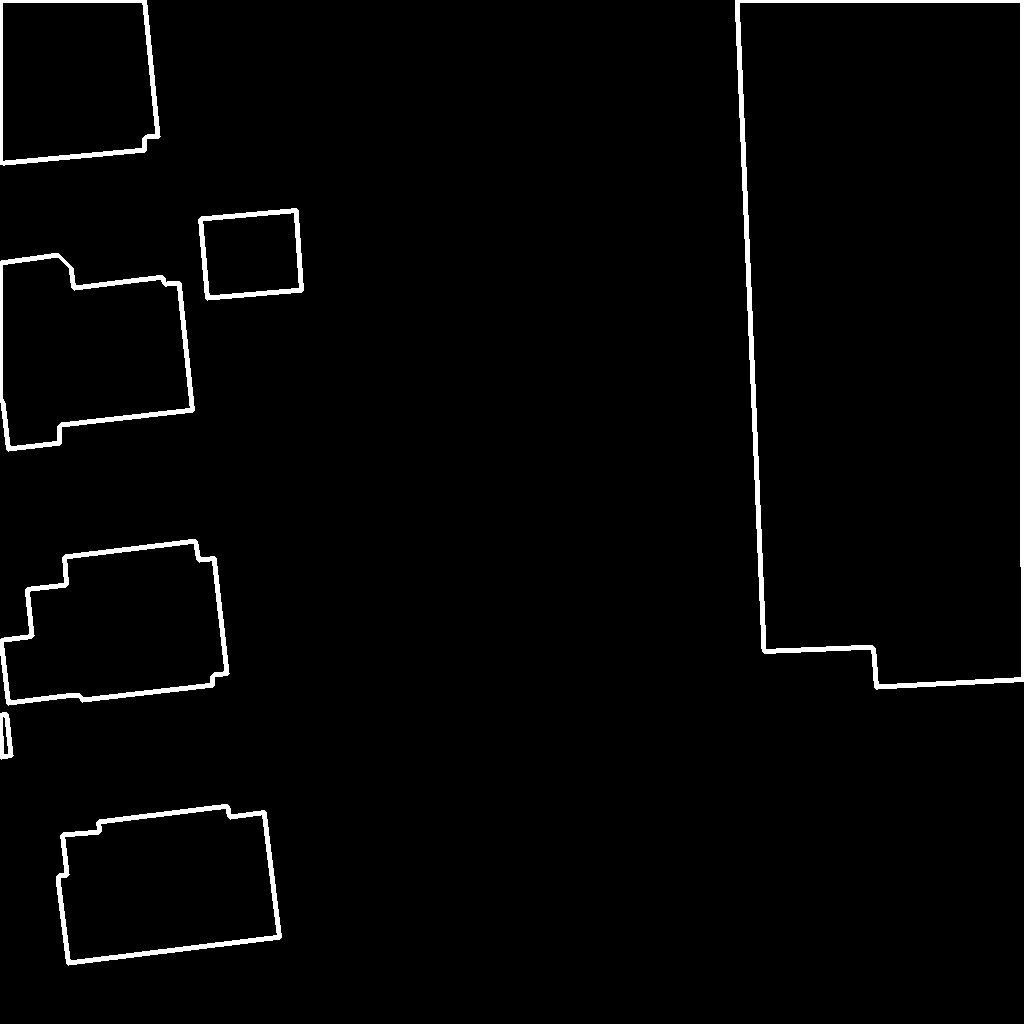building: (737, 0, 1024, 688), (0, 255, 194, 450), (1, 541, 228, 704), (58, 806, 281, 964), (0, 0, 159, 164), (200, 210, 303, 299), (0, 714, 12, 758)
